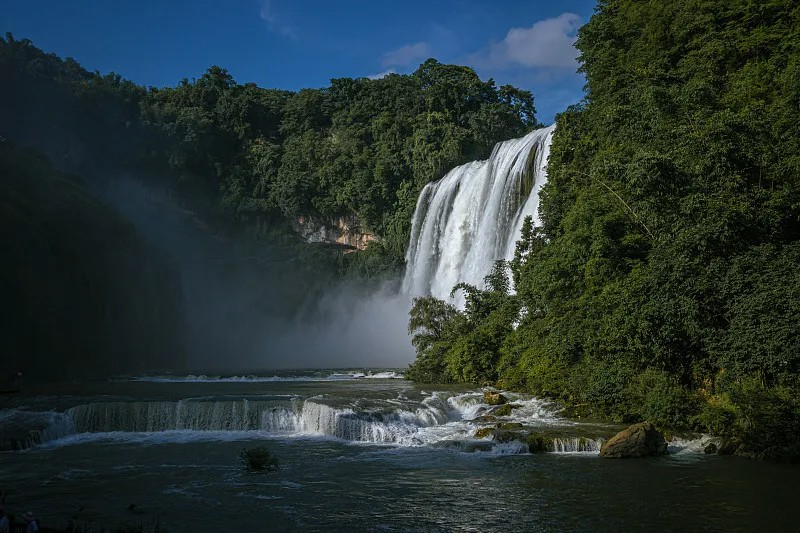Huangguoshu: (402, 121, 555, 300)
